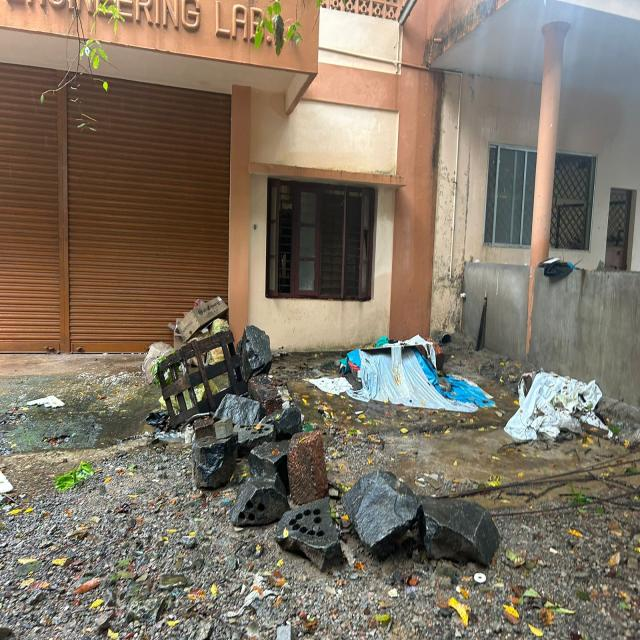stones ahead at: (159, 299, 344, 573)
